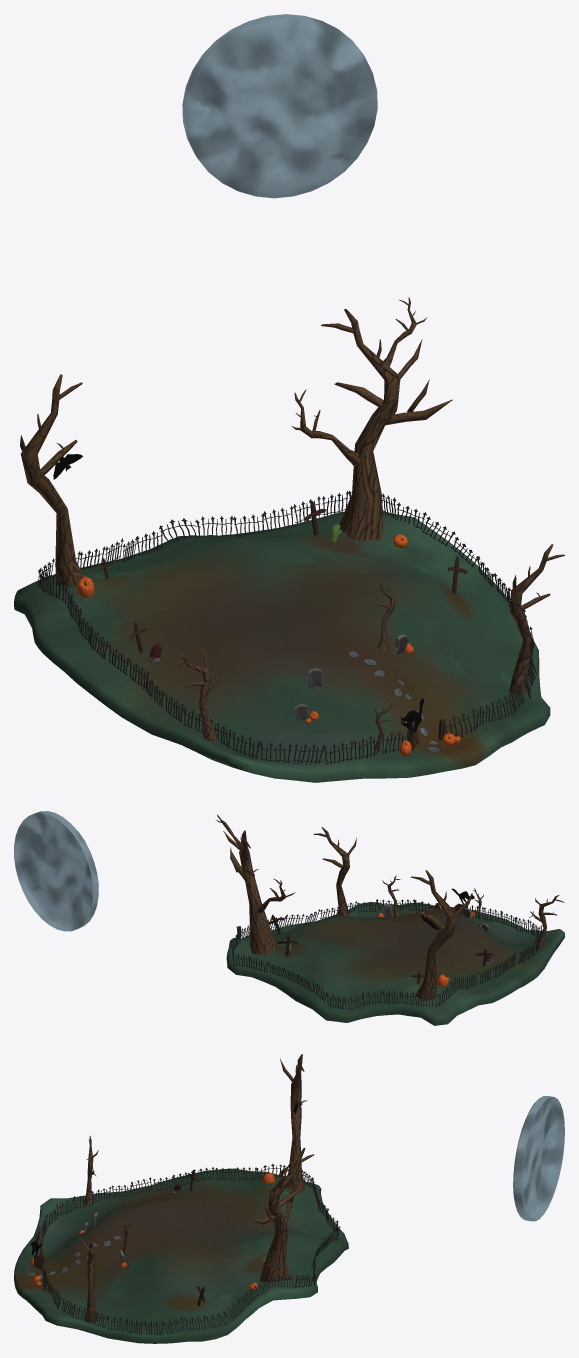
File: floor.glb
3 renders of one model, top to bottom at view 1: azimuth 30°, elevation 25°; view 2: azimuth 150°, elevation 25°; view 3: azimuth 270°, elevation 25°, orthographic. The views are drawn at different scales.
Parts seen in each view (by area): view 1: Base, Moon, FenceIron, LargeTree, LargeTreeLeft, MediumTreeRight, MediumTreeLeft; view 2: Base, Moon, FenceIron, LargeTree, LargeTreeLeft, MediumTreeRight, MediumTreeLeft, GraveMarkers; view 3: Base, Moon, FenceIron, LargeTree, LargeTreeLeft, MediumTreeRight, MediumTreeLeft.
Part boxes in pixels (x1,y1,x2,y2): Base: [14, 511, 550, 782]; Moon: [182, 14, 377, 198]; FenceIron: [37, 490, 536, 764]; LargeTree: [291, 297, 452, 540]; LargeTreeLeft: [20, 374, 84, 586]; MediumTreeRight: [509, 544, 564, 694]; MediumTreeLeft: [172, 648, 219, 741]; Base: [226, 902, 564, 1025]; Moon: [14, 811, 98, 931]; FenceIron: [230, 899, 542, 1009]; LargeTree: [216, 814, 295, 954]; LargeTreeLeft: [411, 870, 472, 1001]; MediumTreeRight: [313, 827, 356, 916]; MediumTreeLeft: [529, 895, 564, 948]; GraveMarkers: [268, 914, 493, 983]; Base: [14, 1168, 348, 1343]; Moon: [513, 1096, 564, 1221]; FenceIron: [34, 1164, 340, 1335]; LargeTree: [250, 1147, 314, 1282]; LargeTreeLeft: [280, 1054, 307, 1192]; MediumTreeRight: [80, 1236, 98, 1322]; MediumTreeLeft: [83, 1136, 98, 1206].
Bounding box in the file's own units: 18.95 × 13.19 × 25.18.
Materials: 10 (8 with a texture image).
